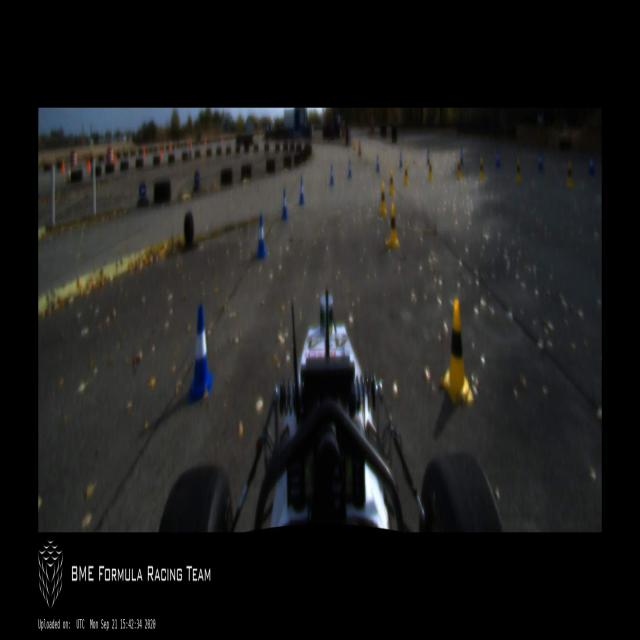blue_cone: (188, 304, 213, 401), (257, 214, 266, 259), (282, 189, 288, 220), (299, 179, 305, 203), (588, 157, 594, 176), (329, 164, 334, 185), (347, 160, 352, 178), (538, 152, 543, 170), (376, 154, 380, 172), (496, 151, 500, 166), (399, 152, 402, 168), (460, 147, 463, 161), (427, 149, 429, 164)
large_orange_cone: (67, 162, 71, 182)
unknown_cone: (358, 136, 362, 156), (61, 157, 65, 175), (114, 150, 118, 168), (87, 157, 91, 174), (169, 141, 172, 154), (143, 145, 146, 157), (189, 139, 192, 149), (204, 136, 207, 146), (160, 147, 162, 161)
yellow_cone: (443, 300, 473, 402), (387, 205, 400, 248), (566, 160, 574, 186), (380, 182, 386, 214), (515, 158, 522, 184), (388, 168, 394, 192), (456, 158, 462, 180), (479, 156, 484, 180), (404, 162, 409, 185), (428, 160, 433, 182)
